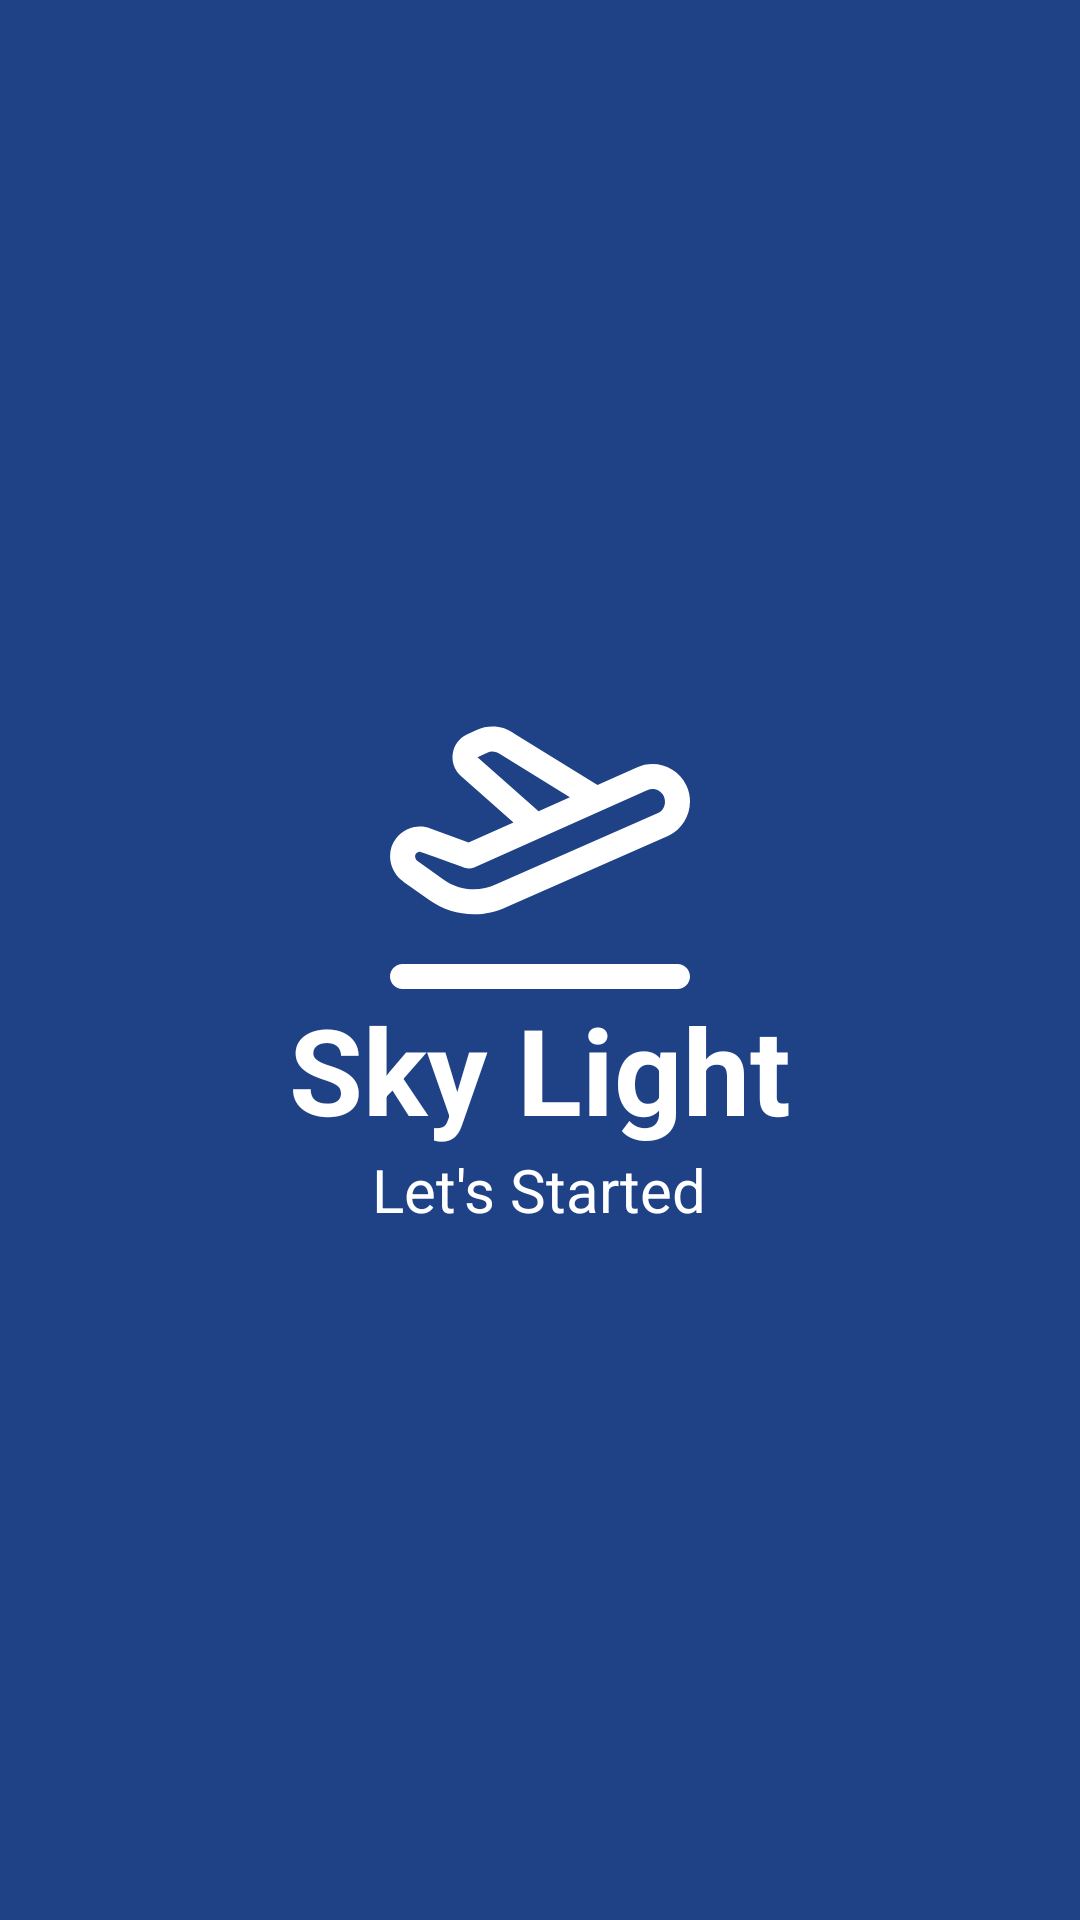

Icons on this 1080*1920 Android screen, each with its box as (x1, y1, x2, y2):
plane: (390, 726, 690, 989)
